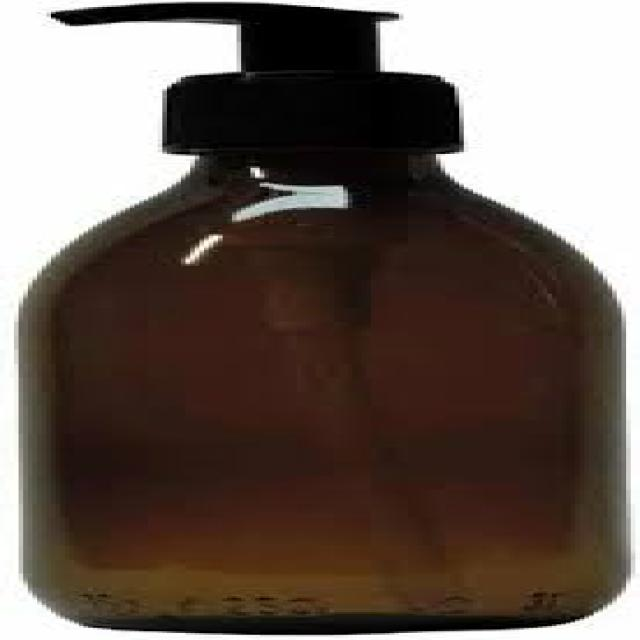Glass: (14, 70, 640, 636)
